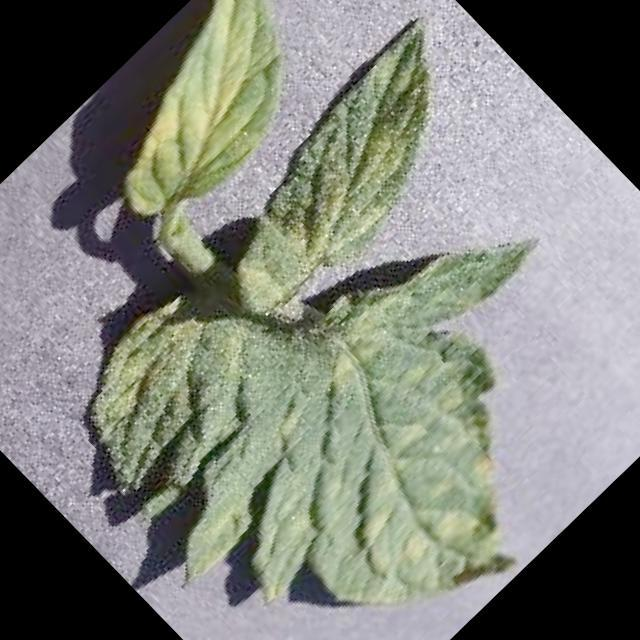Tomato mold leaf: (10, 19, 640, 640), (64, 0, 350, 239)
